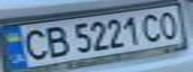1: (121, 13, 145, 46)
2: (87, 18, 109, 52), (106, 16, 127, 48)
5: (69, 20, 93, 54)
B: (39, 24, 72, 58)
C: (18, 26, 51, 61), (139, 10, 166, 43)
O: (154, 8, 184, 39)
